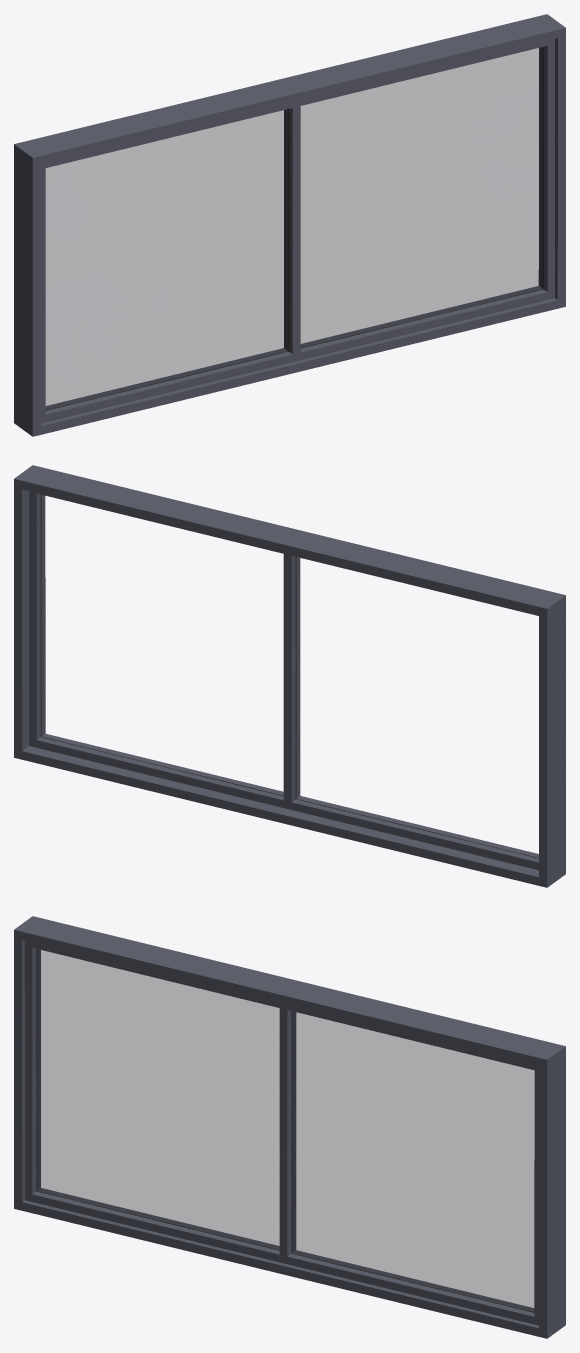
File: SM_Window_Quart_01.glb
3 views of the same model, one above another, from view 1: azimuth 30°, elevation 25°; view 2: azimuth 150°, elevation 25°; view 3: azimuth 330°, elevation 25° (orthographic).
Visible parts, largest first — view 1: SM_Window_Quart_01; view 2: SM_Window_Quart_01; view 3: SM_Window_Quart_01.
Part boxes in pixels (box(x1,y1,x2,y2)): SM_Window_Quart_01: box(14, 14, 565, 436); SM_Window_Quart_01: box(14, 465, 565, 887); SM_Window_Quart_01: box(14, 916, 565, 1338).
Size of the model in its own units: 4 by 2 by 0.2434.
2 materials, 2 textured.
